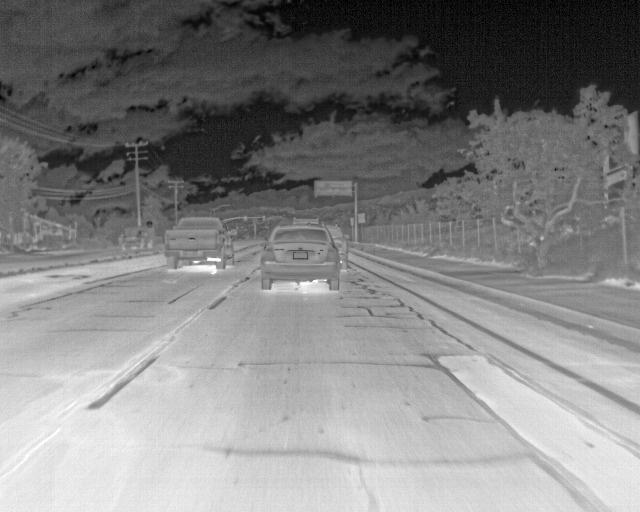car: (258, 224, 341, 290), (163, 217, 232, 268), (321, 224, 349, 268), (120, 224, 155, 247), (289, 216, 321, 230)
